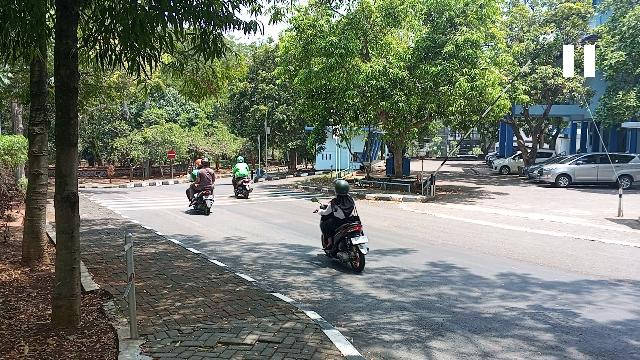helm: (334, 180, 351, 196), (203, 159, 212, 168), (197, 160, 203, 168), (238, 158, 245, 164)
motor: (322, 214, 371, 273), (235, 178, 254, 200), (198, 190, 214, 216)
